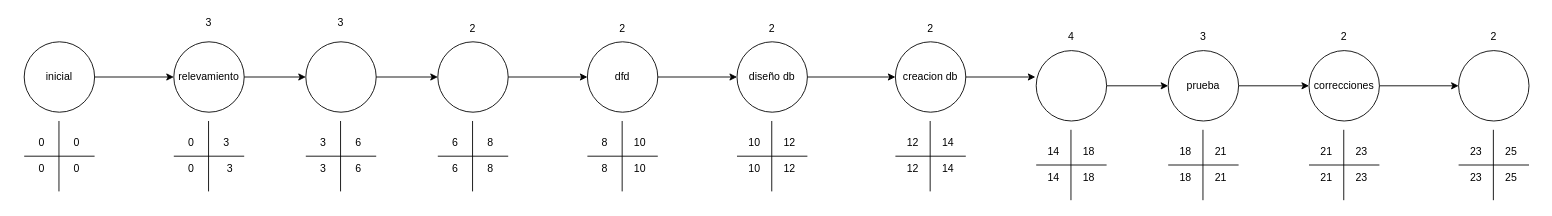
This 1552x216 diagram has some shape labels left out. The shapes that lost their labels are listed below. From the top down, each one's centre as x and y in pixels, then its label:
At (340,76): "analisis".
At (472,76): "der".
At (1071,85): "desarrollo backend".
At (1493,85): "documentacion final".
